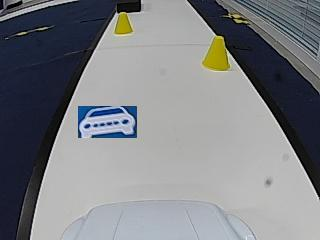block: (117, 0, 141, 13)
cone: (202, 36, 230, 71), (114, 14, 134, 36)
